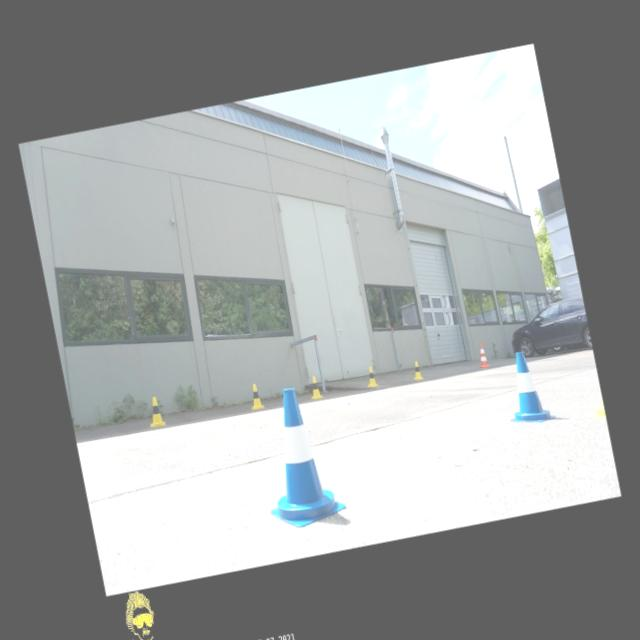blue_cone: (248, 381, 348, 532), (498, 348, 556, 428)
large_orange_cone: (476, 342, 490, 369)
yellow_cone: (144, 396, 167, 428), (247, 382, 266, 410), (307, 375, 323, 400), (365, 366, 379, 388), (412, 360, 424, 380)
